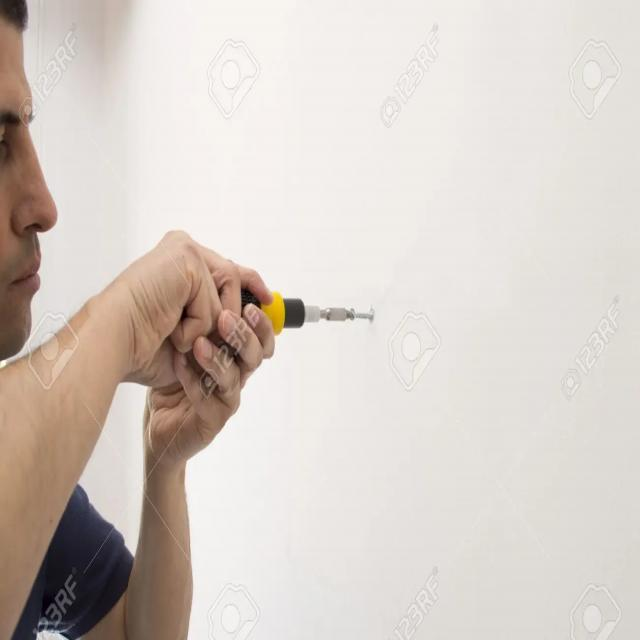screwdriver: (188, 287, 358, 340)
